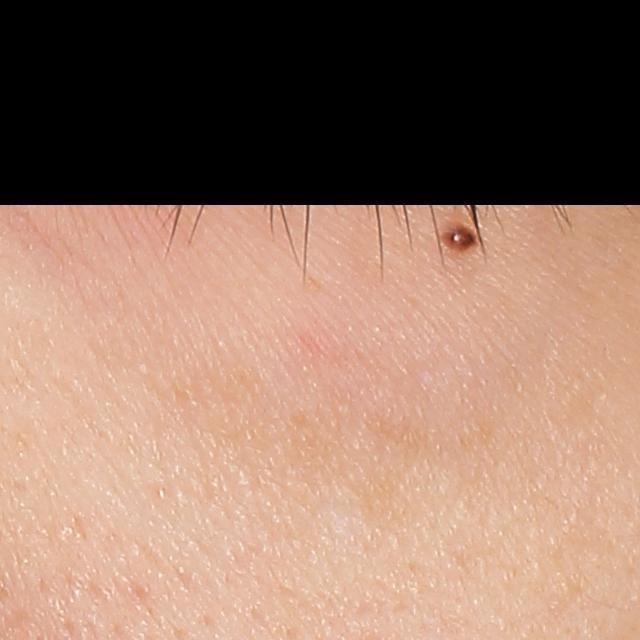nevus: (441, 222, 479, 252)
